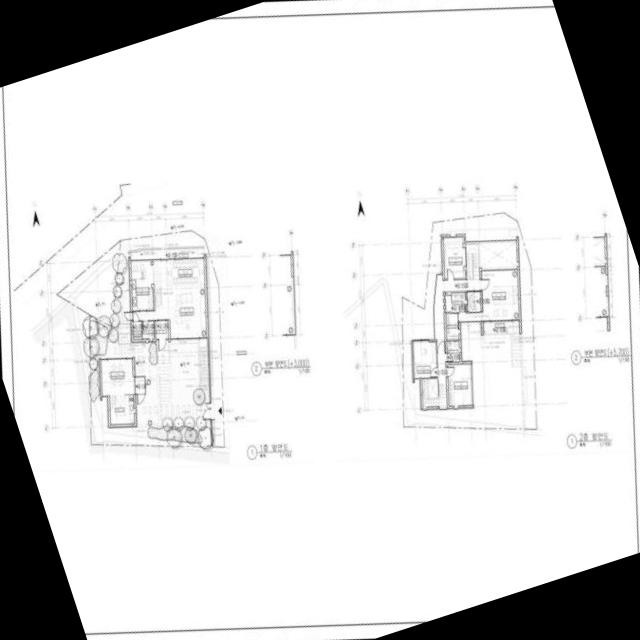background: (0, 0, 640, 640)
space_balconi: (483, 320, 519, 335)
space_bedroom: (458, 270, 518, 321), (447, 364, 472, 405)
space_dressroom: (445, 313, 458, 339)
space_front: (155, 320, 168, 339), (134, 376, 145, 394)
space_kitchen: (130, 259, 204, 310), (109, 395, 134, 424)
space_living_room: (132, 288, 206, 338), (434, 275, 479, 351), (101, 359, 134, 396)
space_other: (443, 237, 465, 278), (413, 342, 436, 378), (467, 292, 480, 312), (437, 353, 445, 376), (133, 322, 141, 336), (133, 337, 141, 339)
space_staircase: (421, 377, 446, 406), (465, 244, 479, 279), (153, 271, 161, 305), (109, 395, 115, 410)
space_toilet: (445, 292, 465, 312), (446, 341, 459, 362), (142, 321, 154, 339)
